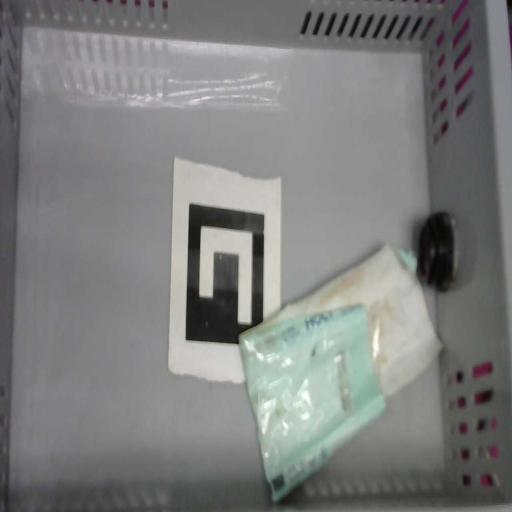QR: (168, 156, 282, 384)
triple_syringe: (238, 243, 442, 504)
